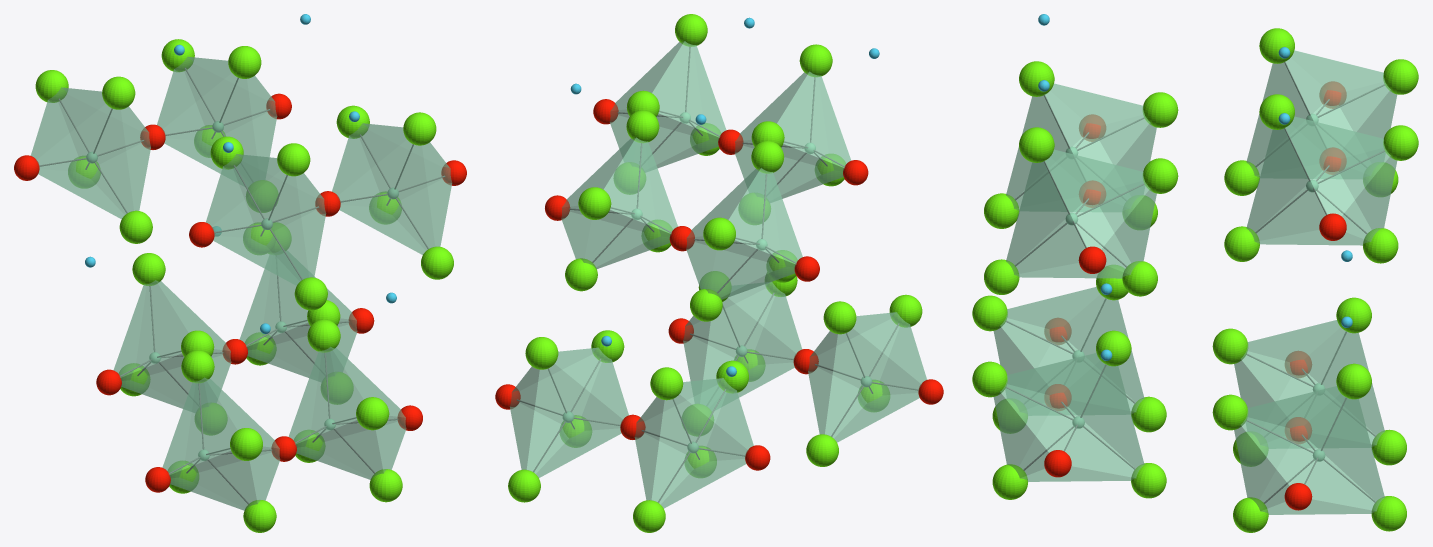
File: LiNbOCl4.fbx
3 views of the same model, side by side, from view 1: azimuth 30°, elevation 25°; view 2: azimuth 150°, elevation 25°; view 3: azimuth 270°, elevation 25° (orthographic). The views are drawn at different scales.
Visible parts, largest first — view 1: Shape_IndexedFaceSet.020, Shape_IndexedFaceSet.060, Shape_IndexedFaceSet.028, Shape_IndexedFaceSet.052, Shape_IndexedFaceSet.038, Shape_IndexedFaceSet.014, Shape_IndexedFaceSet.046, Shape_IndexedFaceSet.043, Shape_IndexedFaceSet.035, Shape_IndexedFaceSet.011, Shape_IndexedFaceSet.044, Shape_IndexedFaceSet.036 (+90 smaller); view 2: Shape_IndexedFaceSet.047, Shape_IndexedFaceSet.007, Shape_IndexedFaceSet.015, Shape_IndexedFaceSet.039, Shape_IndexedFaceSet.062, Shape_IndexedFaceSet.030, Shape_IndexedFaceSet.054, Shape_IndexedFaceSet.022, Shape_IndexedFaceSet.048, Shape_IndexedFaceSet.056, Shape_IndexedFaceSet.024, Shape_IndexedFaceSet.016 (+87 smaller); view 3: Shape_IndexedFaceSet.049, Shape_IndexedFaceSet.017, Shape_IndexedFaceSet.033, Shape_IndexedFaceSet.001, Shape_IndexedFaceSet.048, Shape_IndexedFaceSet.016, Shape_IndexedFaceSet.035, Shape_IndexedFaceSet.003, Shape_IndexedFaceSet.009, Shape_IndexedFaceSet.057, Shape_IndexedFaceSet.025, Shape_IndexedFaceSet.041 (+92 smaller).
Boxes of the visible parts, bbox=[...] form: Shape_IndexedFaceSet.020: bbox=[337, 140, 435, 254]; Shape_IndexedFaceSet.060: bbox=[36, 104, 133, 218]; Shape_IndexedFaceSet.028: bbox=[211, 170, 308, 285]; Shape_IndexedFaceSet.052: bbox=[162, 73, 256, 173]; Shape_IndexedFaceSet.038: bbox=[288, 347, 363, 444]; Shape_IndexedFaceSet.014: bbox=[113, 280, 188, 377]; Shape_IndexedFaceSet.046: bbox=[162, 377, 237, 474]; Shape_IndexedFaceSet.043: bbox=[185, 379, 274, 472]; Shape_IndexedFaceSet.035: bbox=[311, 348, 400, 441]; Shape_IndexedFaceSet.011: bbox=[136, 281, 225, 375]; Shape_IndexedFaceSet.044: bbox=[169, 451, 257, 510]; Shape_IndexedFaceSet.036: bbox=[295, 420, 383, 479]; Shape_IndexedFaceSet.047: bbox=[825, 328, 921, 442]; Shape_IndexedFaceSet.007: bbox=[526, 364, 622, 477]; Shape_IndexedFaceSet.015: bbox=[651, 394, 747, 508]; Shape_IndexedFaceSet.039: bbox=[703, 298, 796, 397]; Shape_IndexedFaceSet.062: bbox=[729, 168, 802, 264]; Shape_IndexedFaceSet.030: bbox=[777, 71, 850, 167]; Shape_IndexedFaceSet.054: bbox=[604, 137, 677, 233]; Shape_IndexedFaceSet.022: bbox=[652, 41, 726, 137]; Shape_IndexedFaceSet.048: bbox=[567, 139, 655, 231]; Shape_IndexedFaceSet.056: bbox=[692, 169, 780, 261]; Shape_IndexedFaceSet.024: bbox=[740, 73, 828, 165]; Shape_IndexedFaceSet.016: bbox=[615, 42, 703, 134]; Shape_IndexedFaceSet.049: bbox=[1285, 116, 1390, 215]; Shape_IndexedFaceSet.017: bbox=[1045, 149, 1149, 249]; Shape_IndexedFaceSet.033: bbox=[1000, 353, 1105, 452]; Shape_IndexedFaceSet.001: bbox=[1241, 386, 1346, 485]; Shape_IndexedFaceSet.048: bbox=[1246, 128, 1326, 241]; Shape_IndexedFaceSet.016: bbox=[1006, 161, 1086, 274]; Shape_IndexedFaceSet.035: bbox=[1064, 364, 1144, 477]; Shape_IndexedFaceSet.003: bbox=[1305, 397, 1384, 510]; Shape_IndexedFaceSet.009: bbox=[1241, 320, 1346, 401]; Shape_IndexedFaceSet.057: bbox=[1285, 50, 1390, 131]; Shape_IndexedFaceSet.025: bbox=[1044, 83, 1149, 164]; Shape_IndexedFaceSet.041: bbox=[1000, 287, 1105, 368].
Size of the model in its own units: 1072 by 1160 by 1133.
